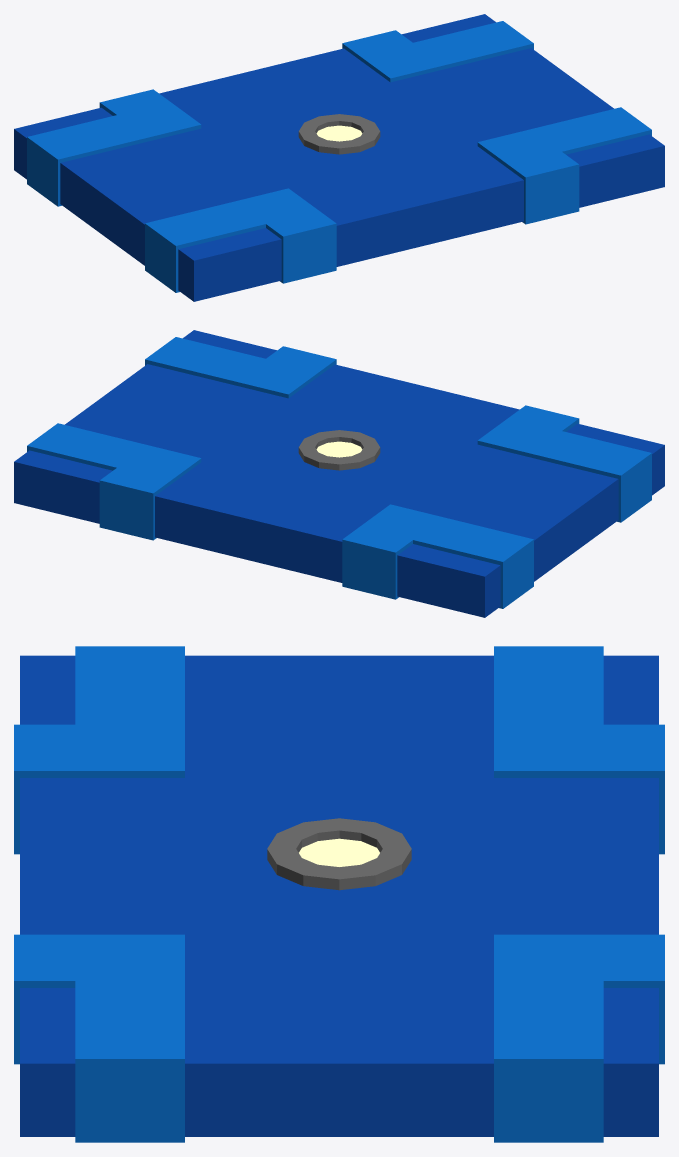
Rendered from carpet.glb.
3 views of the same model, one above another, from view 1: azimuth 30°, elevation 25°; view 2: azimuth 150°, elevation 25°; view 3: azimuth 270°, elevation 25° (orthographic). The views are drawn at different scales.
Visible parts, largest first — view 1: Cube, Cube.001, Cylinder; view 2: Cube, Cube.001, Cylinder; view 3: Cube, Cube.001, Cylinder.
Boxes of the visible parts, x1,y1,x2,y2 form: Cube: (14,14,664,301); Cube.001: (27,21,651,292); Cylinder: (298,114,380,154); Cube: (14,330,664,617); Cube.001: (27,337,651,608); Cylinder: (298,430,380,470); Cube: (20,655,658,1136); Cube.001: (14,646,664,1142); Cylinder: (267,818,411,890).
Bounding box in the file's own units: 3.05 × 0.328 × 2.04.
